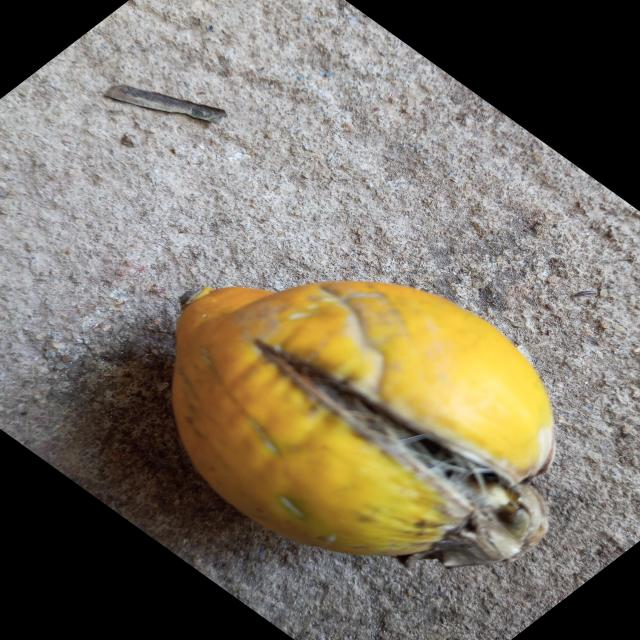damaged: (170, 280, 555, 572)
